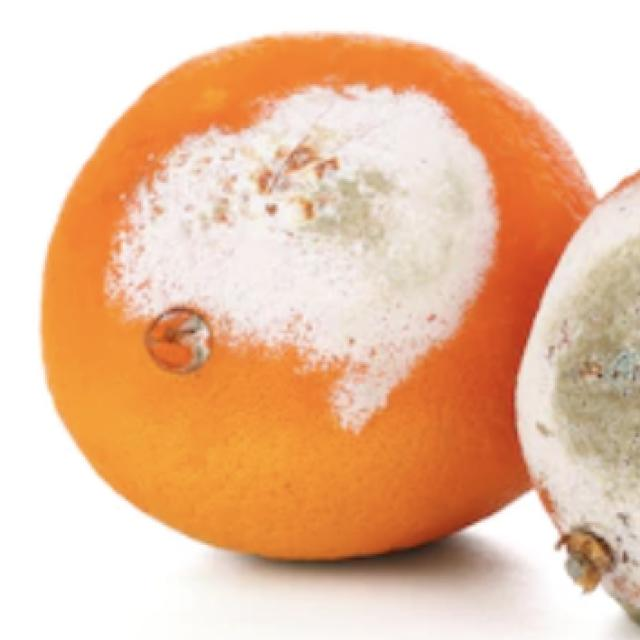sangat_busuk: (511, 165, 638, 625)
sedikit_busuk: (41, 37, 600, 564)
